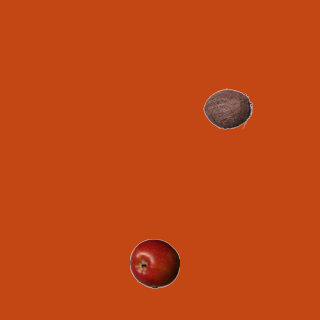Apple Braeburn: (129, 238, 179, 288)
Cocos: (202, 83, 252, 133)
